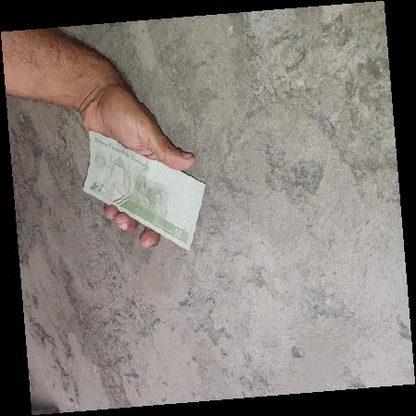fifty-back-vef: (83, 129, 206, 251)
